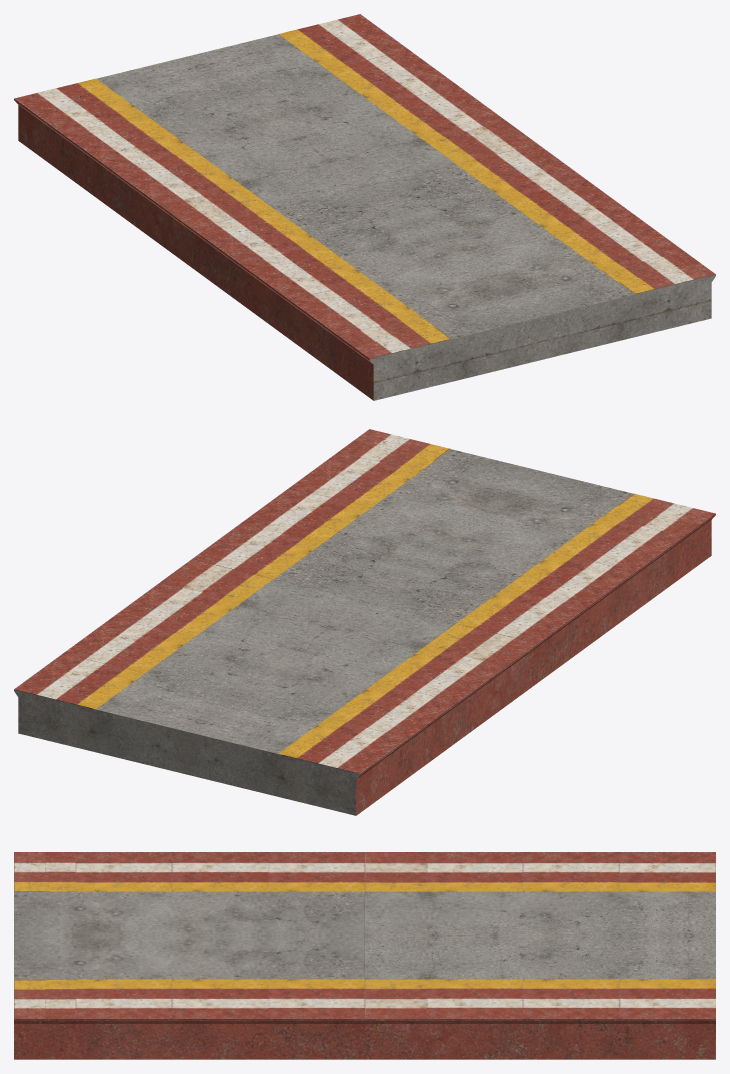
File: TTKC-PF-20M.glb
3 renders of one model, top to bottom at view 1: azimuth 30°, elevation 25°; view 2: azimuth 150°, elevation 25°; view 3: azimuth 270°, elevation 25°, orthographic.
Visible parts, largest first — view 1: KRG_PF20MThrissur_D0_S0; view 2: KRG_PF20MThrissur_D0_S0; view 3: KRG_PF20MThrissur_D0_S0.
Boxes of the visible parts, box(x1,y1,x2,y2) form: KRG_PF20MThrissur_D0_S0: box(14, 14, 715, 400); KRG_PF20MThrissur_D0_S0: box(14, 429, 715, 815); KRG_PF20MThrissur_D0_S0: box(14, 852, 715, 1059).
Size of the model in its own units: 11.85 by 4.42 by 21.07.
Materials: 1 (1 with a texture image).
